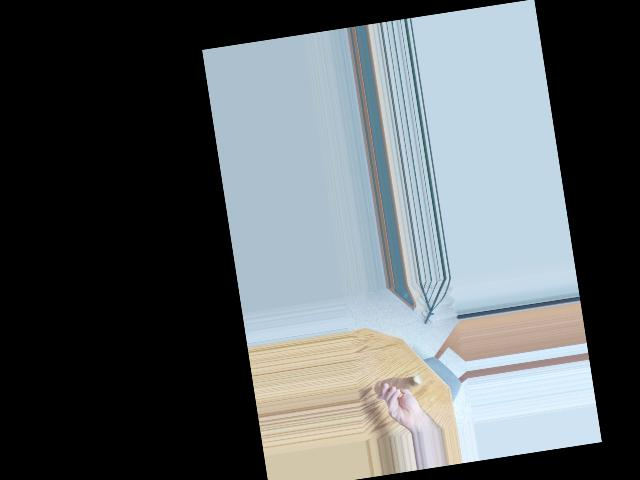sweet_potato: (372, 372, 424, 399)
